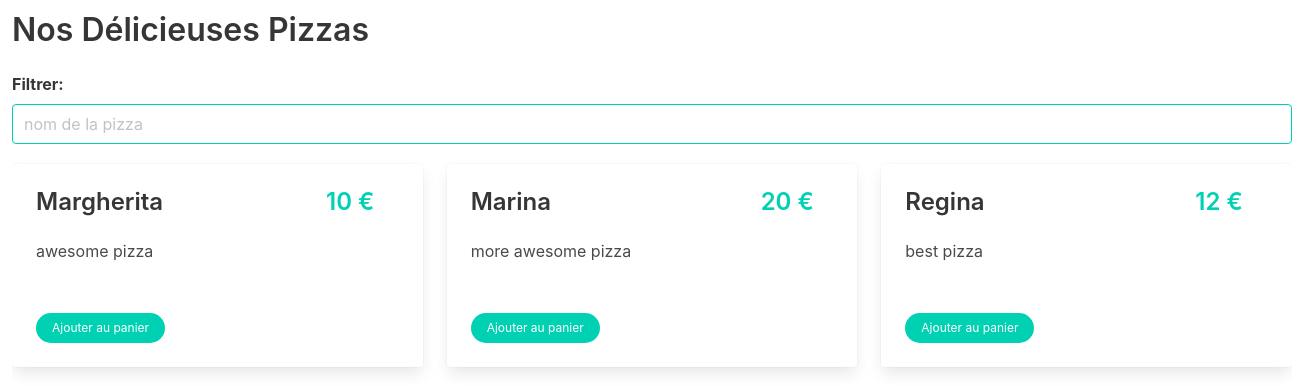
Test case: pizzas from the store › filter returns nothing
The width and height of the screenshot is (1304, 392).
// use filter, check that pizza list moved accordingly
Type "XXXXXXX" into the field with placeholder "nom de la pizza" at (652, 124), box [12, 104, 1292, 144]
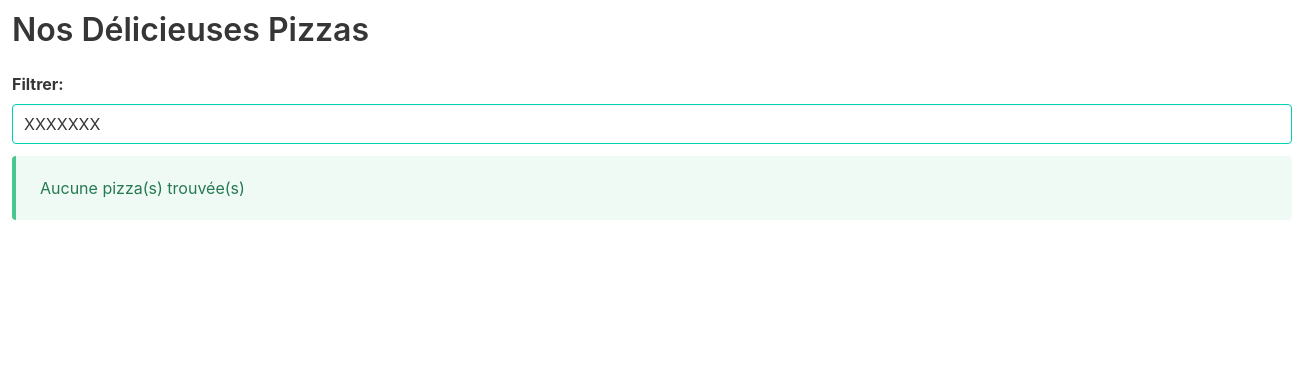
Check: the text "Aucune pizza(s) trouvée(s)" is shown, box [12, 156, 1292, 220]
Check: the text "Margherita" is gone
Check: the text "Marina" is gone
